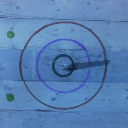Axe Tip: (63, 66, 76, 69)
